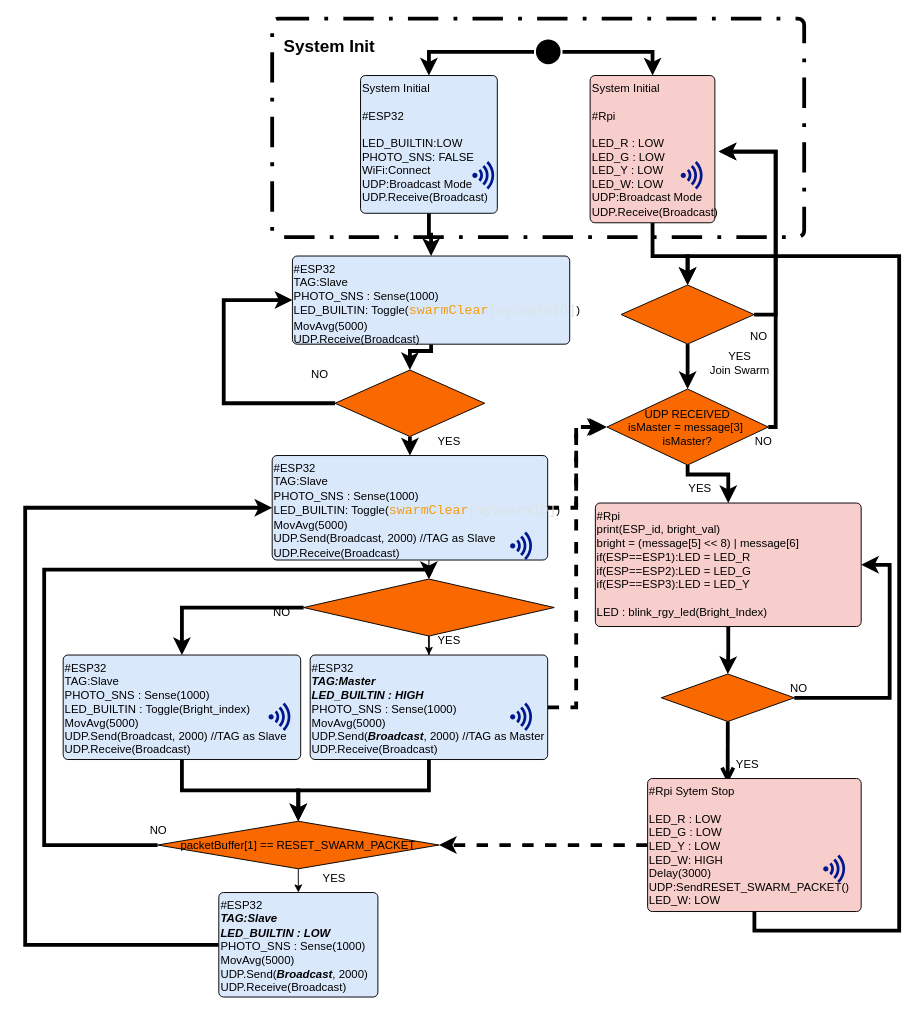
Some shapes in this 924 by 1014 pixel diagram are drawn without their labels. The centre of each missing label's shape, as x and y in pixels:
"BTN Pressed" belongs at (x=727, y=697).
"Button Pressed?" belongs at (x=687, y=314).
"Network silent ≥ 200 ms? && Sns Time >= 5000?" belongs at (x=409, y=403).
"swarmClear[mySwarmID] >= swarmClear[i]" belongs at (x=428, y=607).
